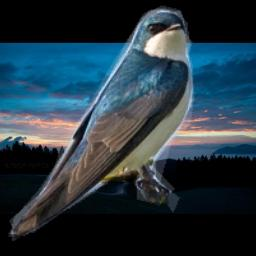Swallow: (3, 2, 201, 241)
